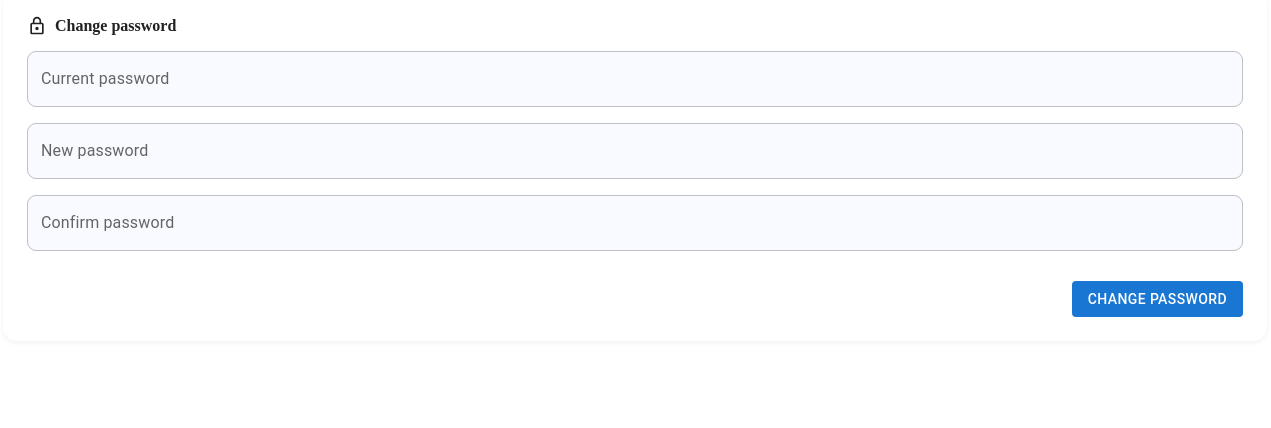
Test: ChangePasswordForm › should require all three password fields
The width and height of the screenshot is (1271, 428).
Click the button "Change password": (1157, 299) [1072,281,1243,317]
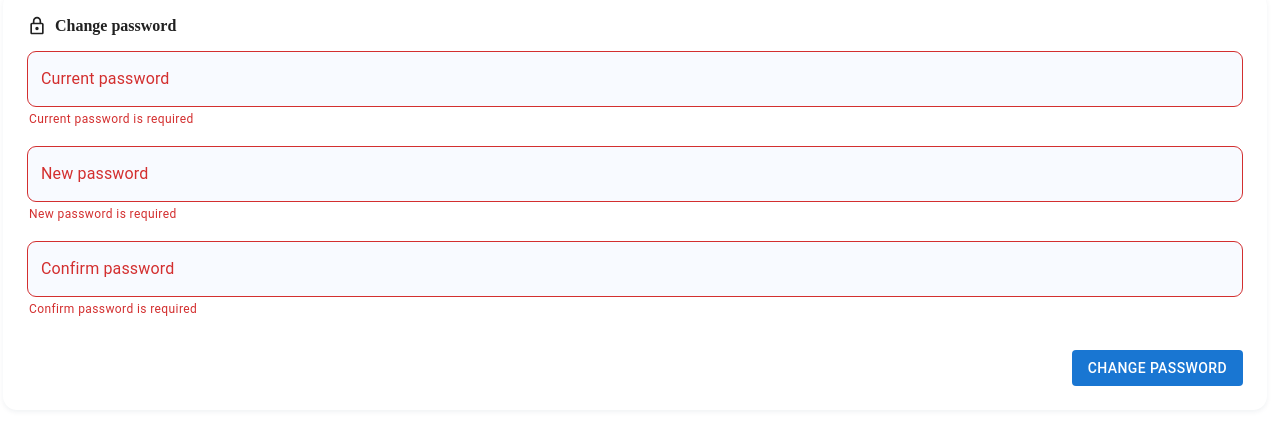
Check: the text "Current password is required" is shown, box [29,112,194,126]
Check: the text "New password is required" is shown, box [29,207,177,221]
Check: the text "Confirm password is required" is shown, box [29,302,197,316]
